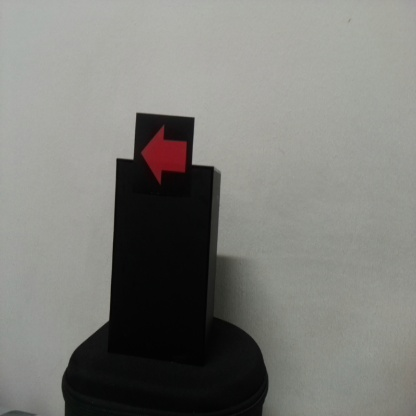id_4: (134, 115, 192, 197)
